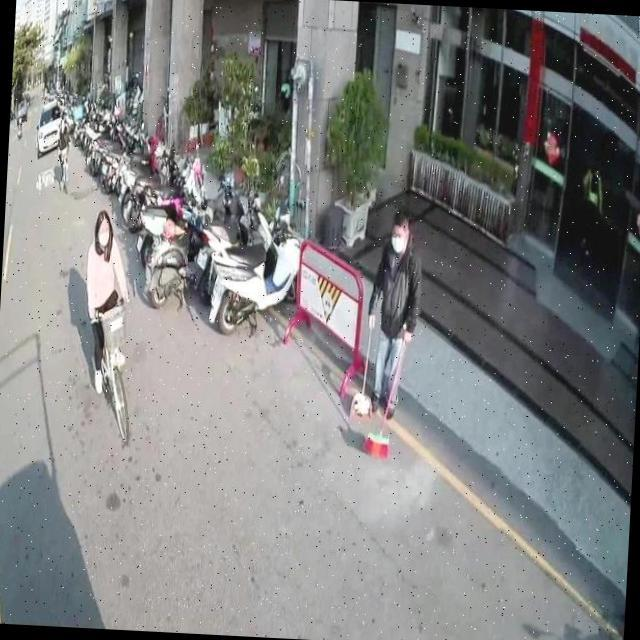person: (363, 201, 428, 419), (80, 207, 134, 397), (54, 113, 74, 185)
